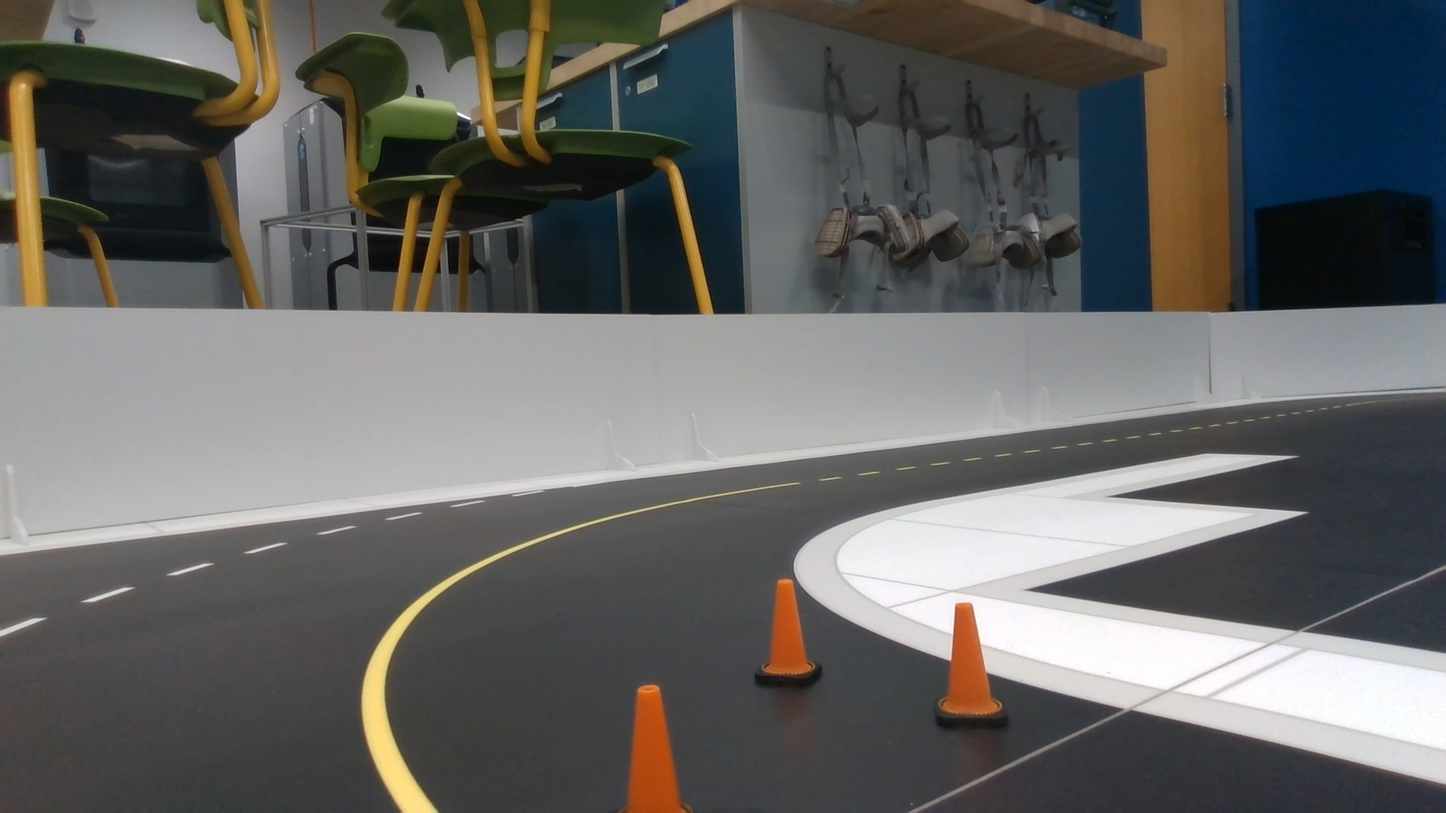Traffic Cone: (935, 603, 1007, 727), (621, 685, 691, 812), (755, 579, 821, 687)
